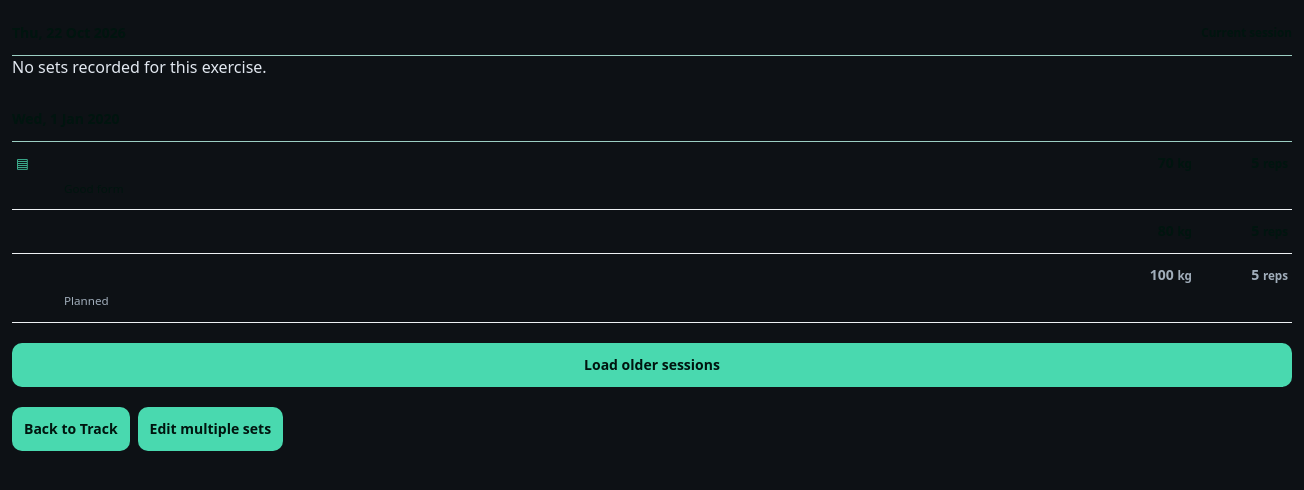
Scenario: loads additional history pages without following the next URL
The image size is (1304, 490).
Step 1. Click the button "Load older sessions" → (652, 365), box top-left (12, 343), bottom-right (1292, 387)
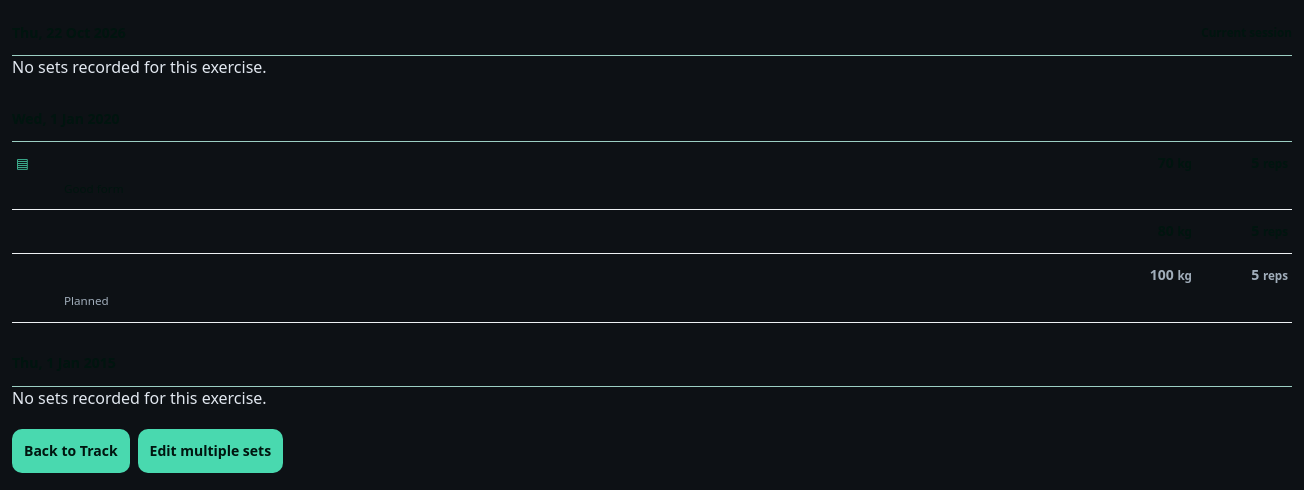
Expected: the button "Thu, 1 Jan 2015" is shown, top-left (12, 343), bottom-right (1292, 387)
